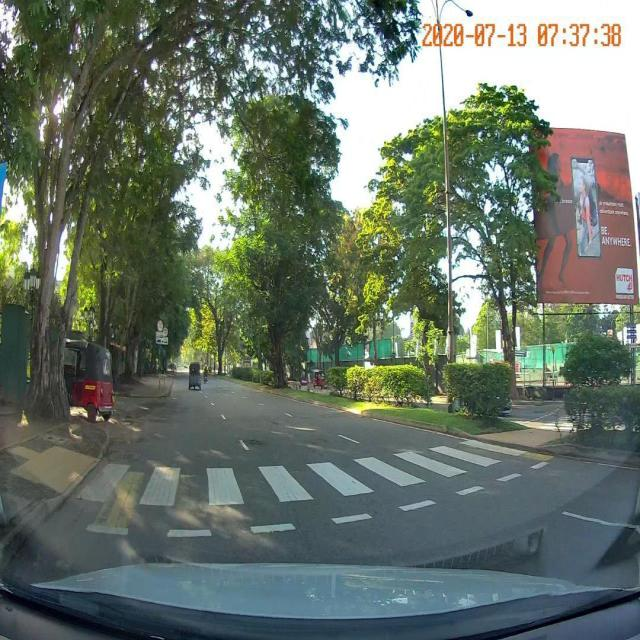Crosswalk: (74, 437, 528, 509)
